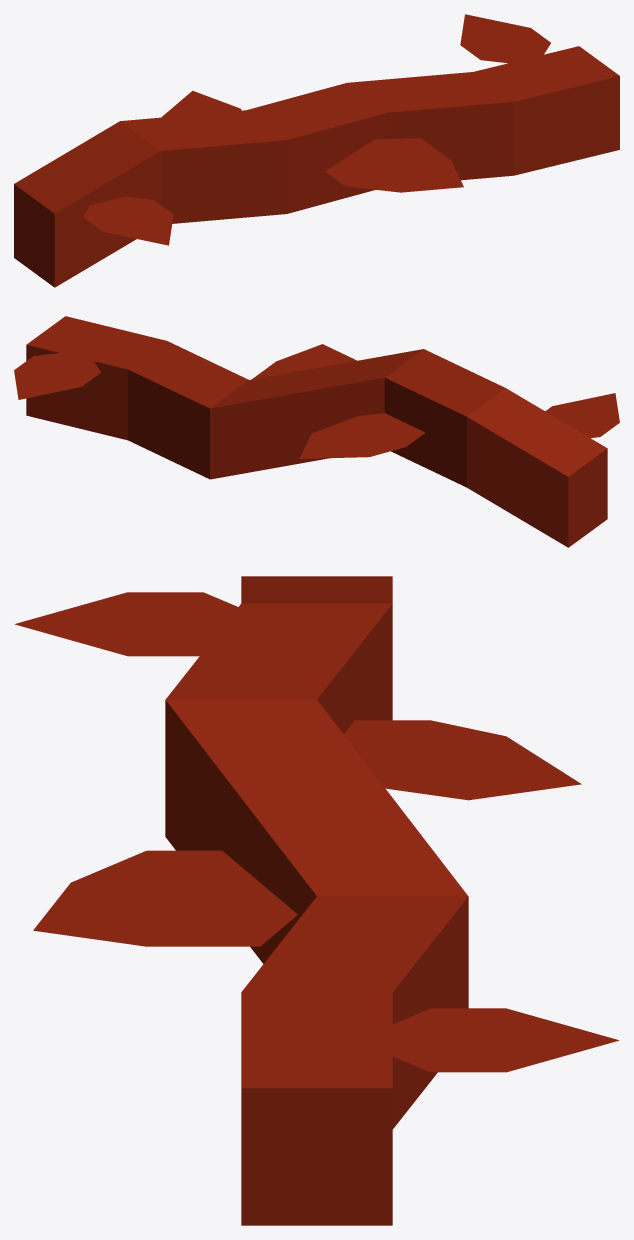
The model's file is obj_vine_1_0.obj.
The picture shows the model from 3 angles, top to bottom: view 1: azimuth 30°, elevation 25°; view 2: azimuth 150°, elevation 25°; view 3: azimuth 270°, elevation 25°; orthographic projection. The views are drawn at different scales.
Bounding box in the file's own units: 1 × 0.1875 × 0.5.
